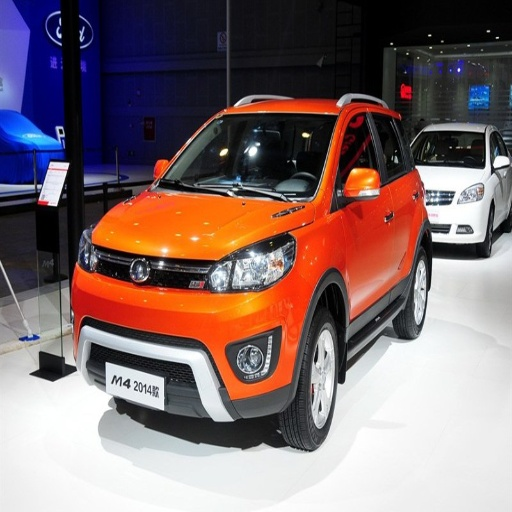front_bumper: (71, 245, 312, 422)
front_glass: (158, 116, 336, 197)
front_left_door: (334, 105, 391, 326)
trunk: (418, 174, 455, 237)
